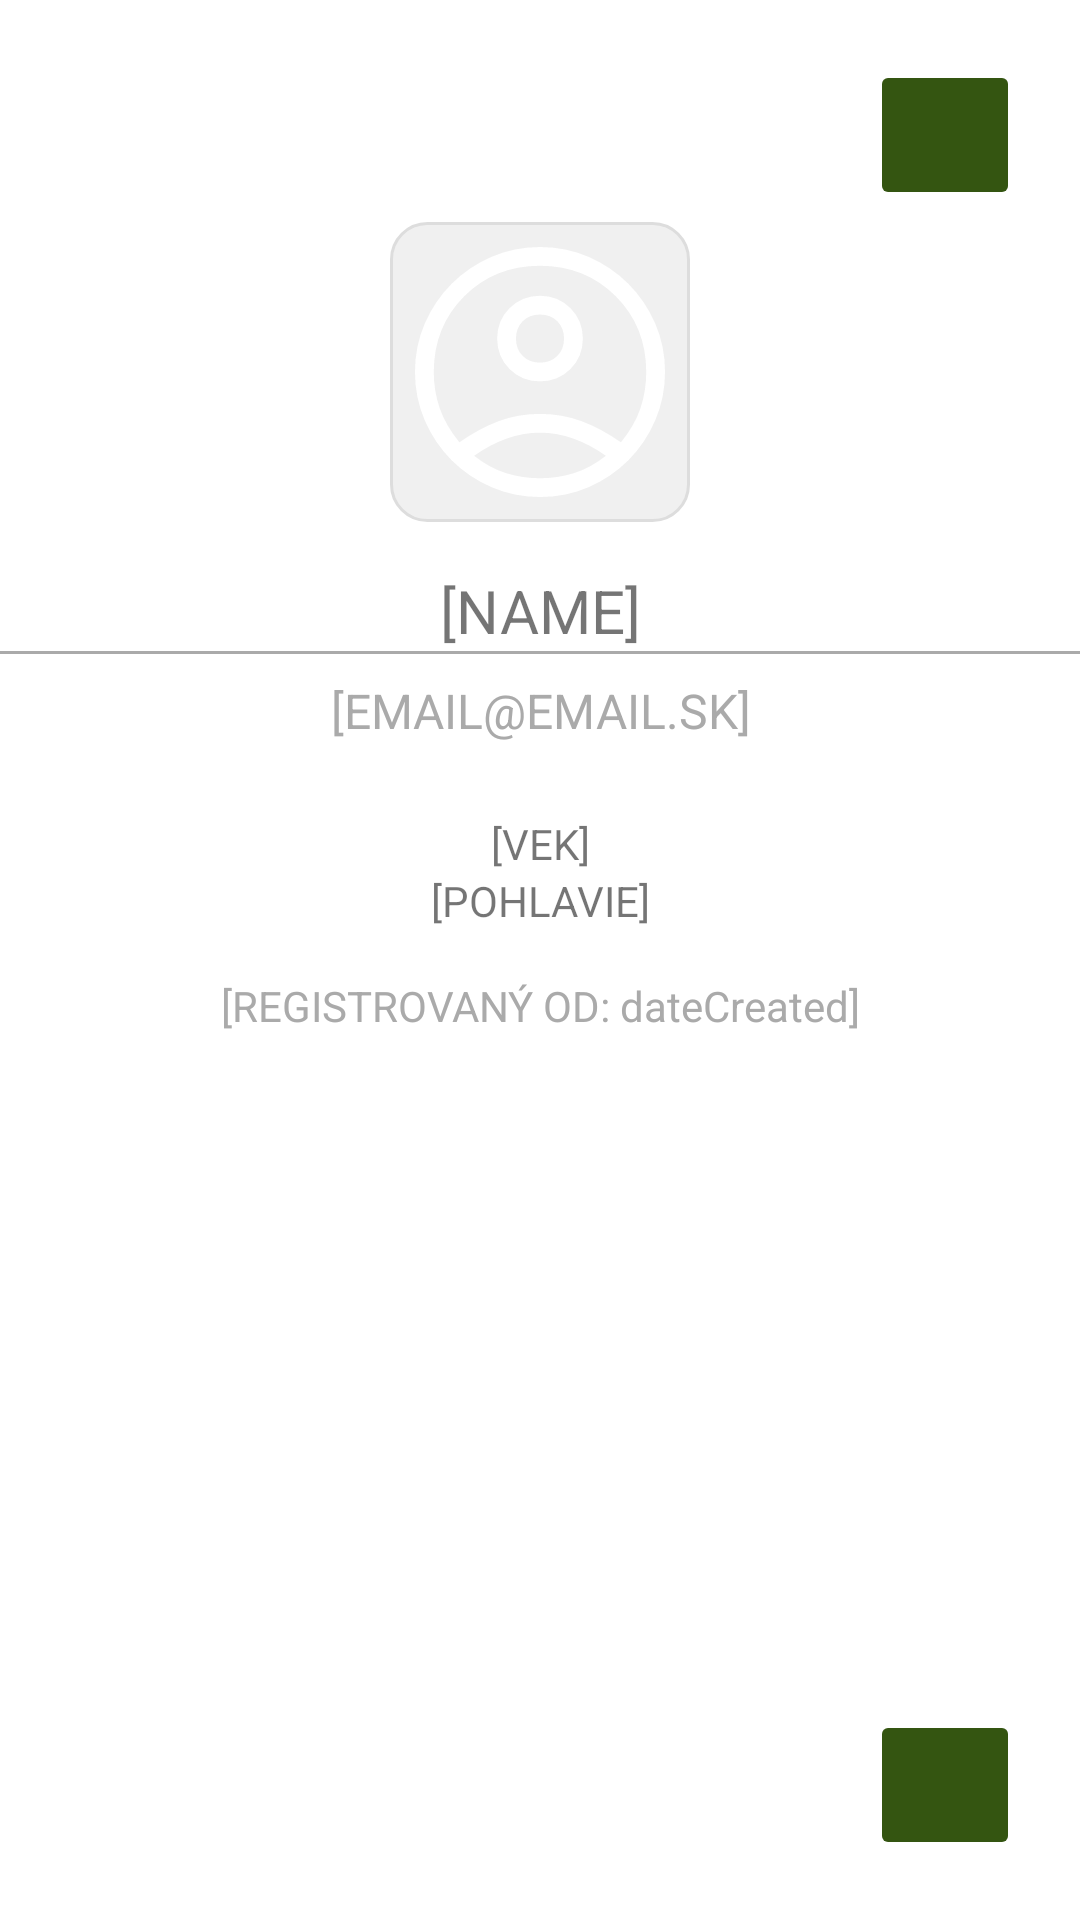

Icon click points for this 1080×1920 phone screenshot, format [x,y]:
Profile Image: [540,372]
